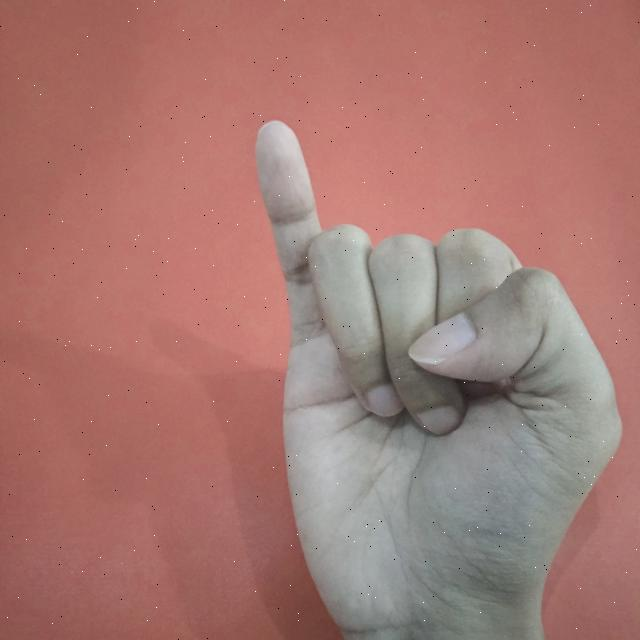I: (242, 112, 628, 640)
